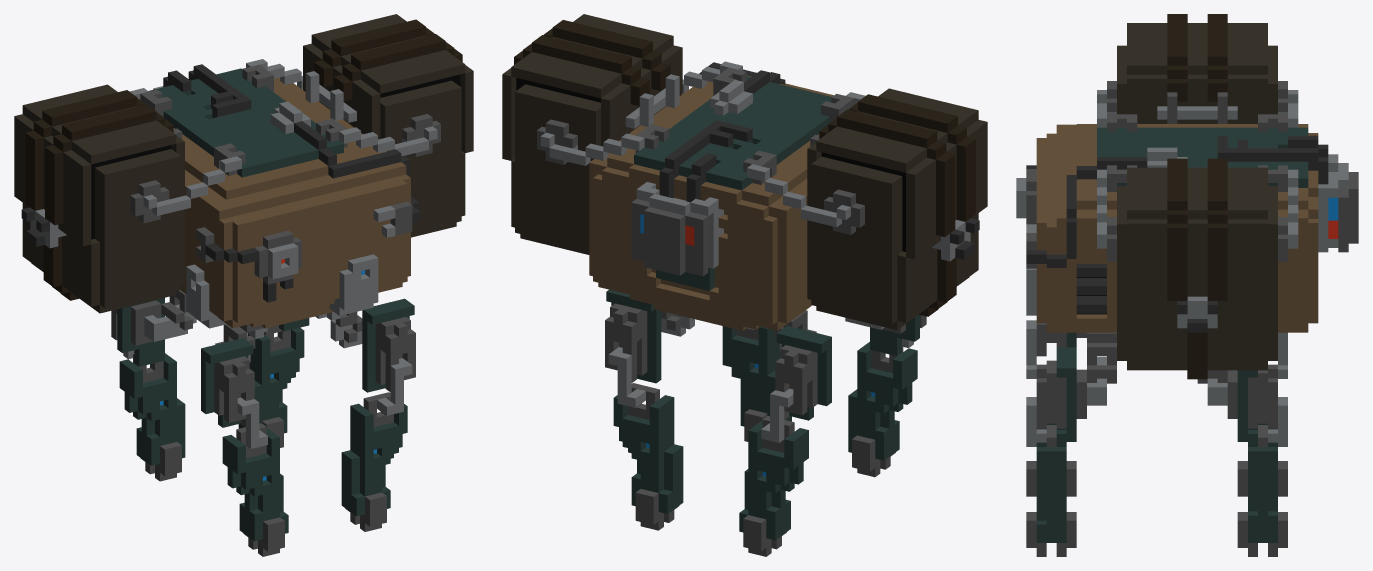
The model's file is MobileStorageBot.glb.
3 renders of one model, left to right at view 1: azimuth 30°, elevation 25°; view 2: azimuth 150°, elevation 25°; view 3: azimuth 270°, elevation 25°, orthographic. The views are drawn at different scales.
Parts seen in each view (by area): view 1: Mesh_0; view 2: Mesh_0; view 3: Mesh_0.
Boxes of the visible parts, x1,y1,x2,y2 form: Mesh_0: [14, 14, 473, 556]; Mesh_0: [502, 14, 987, 556]; Mesh_0: [1016, 14, 1358, 556].
Bounding box in the file's own units: 1.63 × 1.5 × 1.11.
